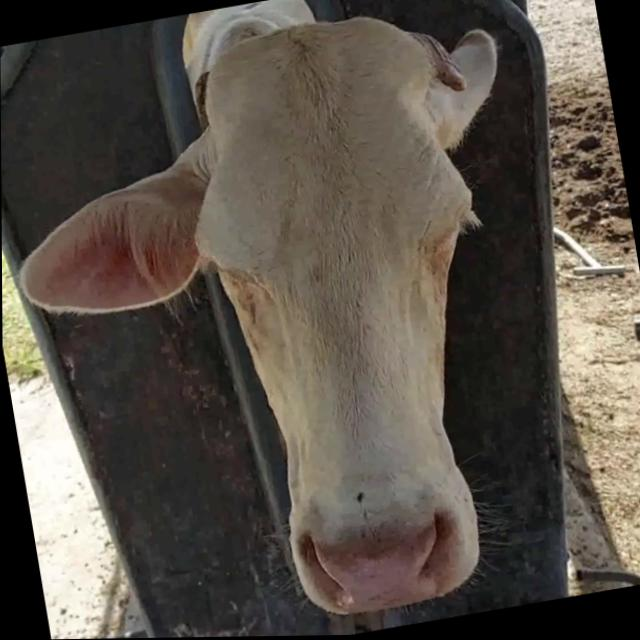cowFace: (173, 0, 533, 632)
